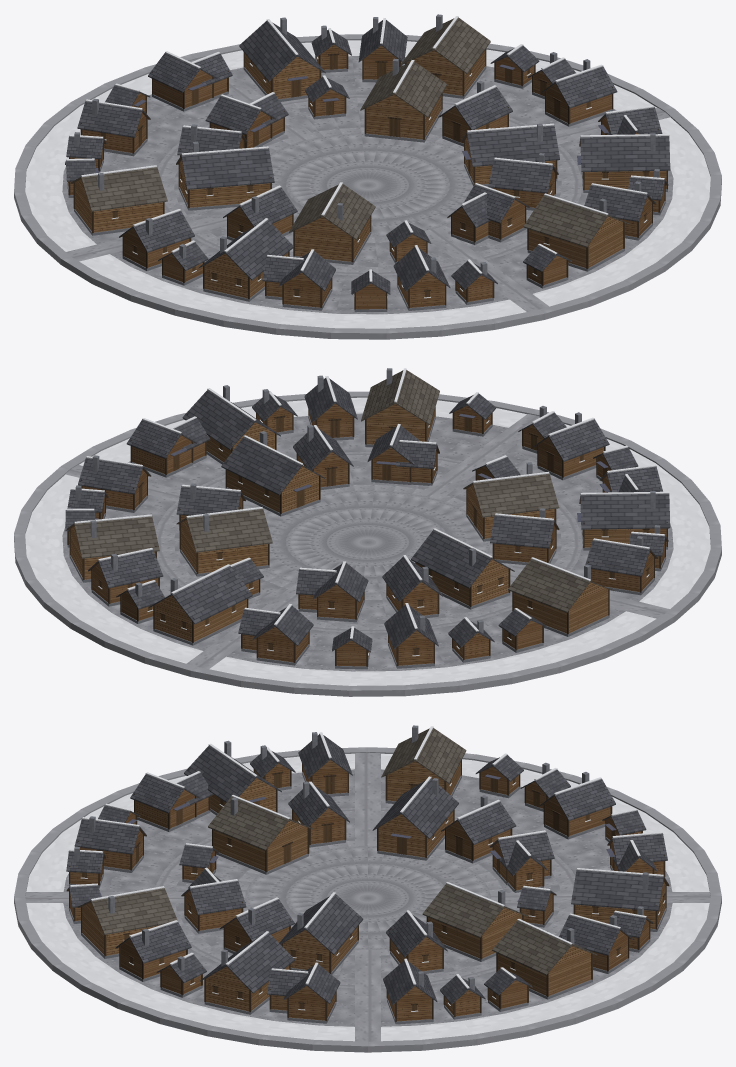
Rendered from village_large_lod0.glb.
3 views of the same model, one above another, from view 1: azimuth 30°, elevation 25°; view 2: azimuth 150°, elevation 25°; view 3: azimuth 270°, elevation 25° (orthographic).
Parts seen in each view (by area): view 1: ae_snow_village_large_lod0; view 2: ae_snow_village_large_lod0; view 3: ae_snow_village_large_lod0.
Part boxes in pixels (x1,y1,x2,y2): ae_snow_village_large_lod0: (14, 14, 721, 339); ae_snow_village_large_lod0: (14, 368, 721, 696); ae_snow_village_large_lod0: (14, 725, 721, 1052).
Bounding box in the file's own units: 1.9 × 0.1715 × 1.9.
1 material, 1 textured.
